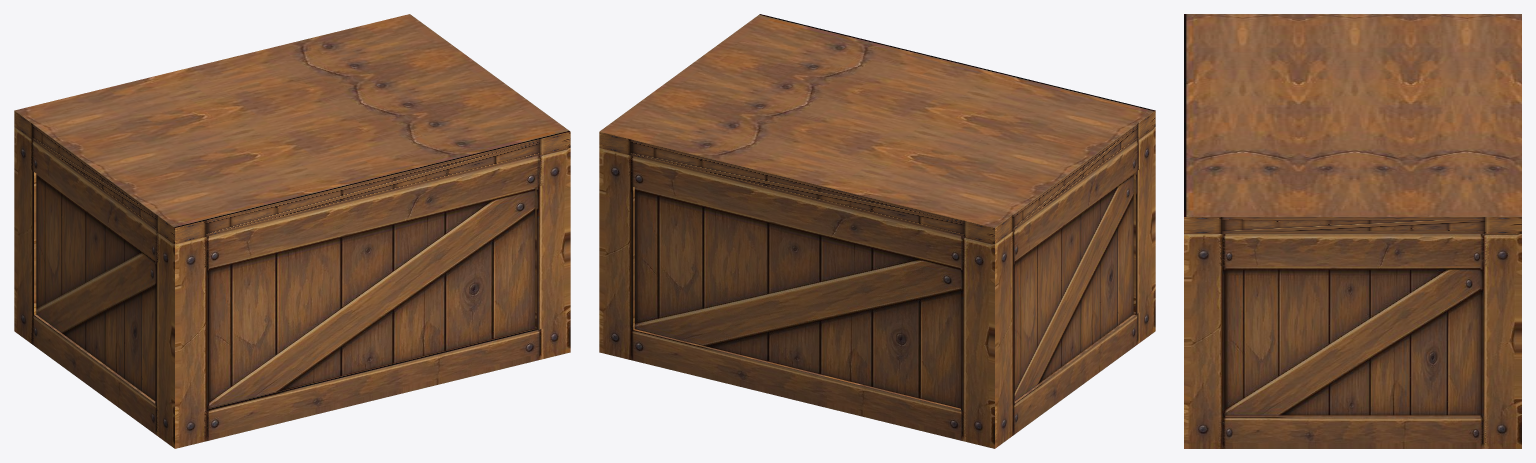
The model's file is crate-lidded.glb.
The picture shows the model from 3 angles, left to right: view 1: azimuth 30°, elevation 25°; view 2: azimuth 150°, elevation 25°; view 3: azimuth 270°, elevation 25°; orthographic projection. The views are drawn at different scales.
Visible parts, largest first — view 1: crate-lidded, lid; view 2: crate-lidded, lid; view 3: lid, crate-lidded.
Part boxes in pixels (x1,y1,x2,y2): crate-lidded: (14,127,570,448); lid: (14,14,570,244); crate-lidded: (599,127,1155,448); lid: (599,14,1155,244); lid: (1184,14,1521,233); crate-lidded: (1184,234,1521,448).
Bounding box in the file's own units: 1.01 × 0.54 × 0.712.
Materials: 2 (1 with a texture image).
